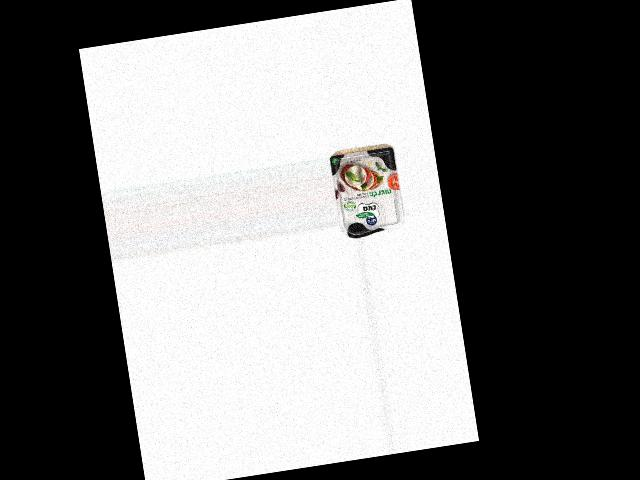cheese: (329, 145, 407, 239)
